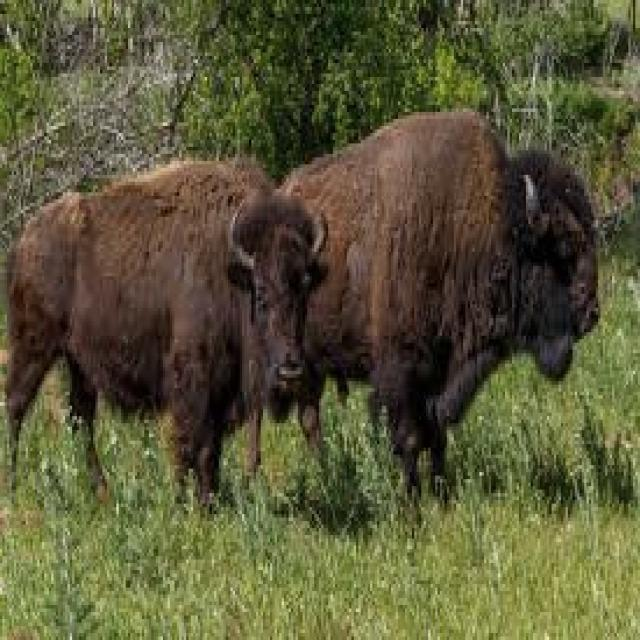bison: (284, 108, 598, 490), (9, 161, 323, 500)
